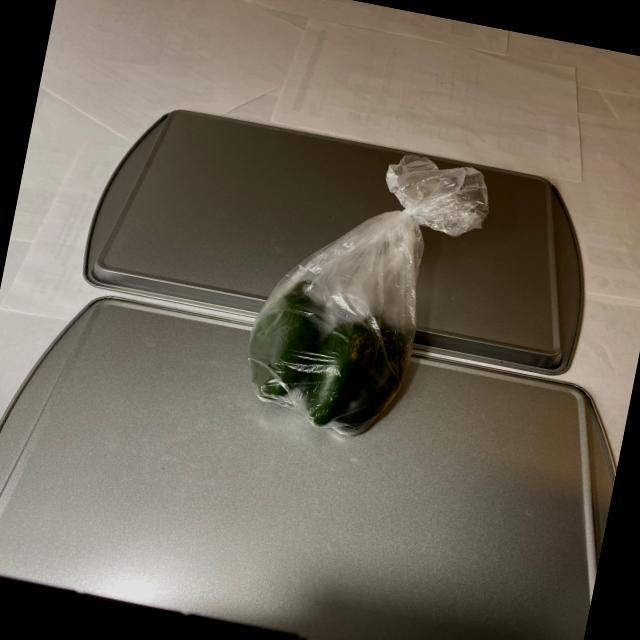chilli: (228, 271, 428, 452)
